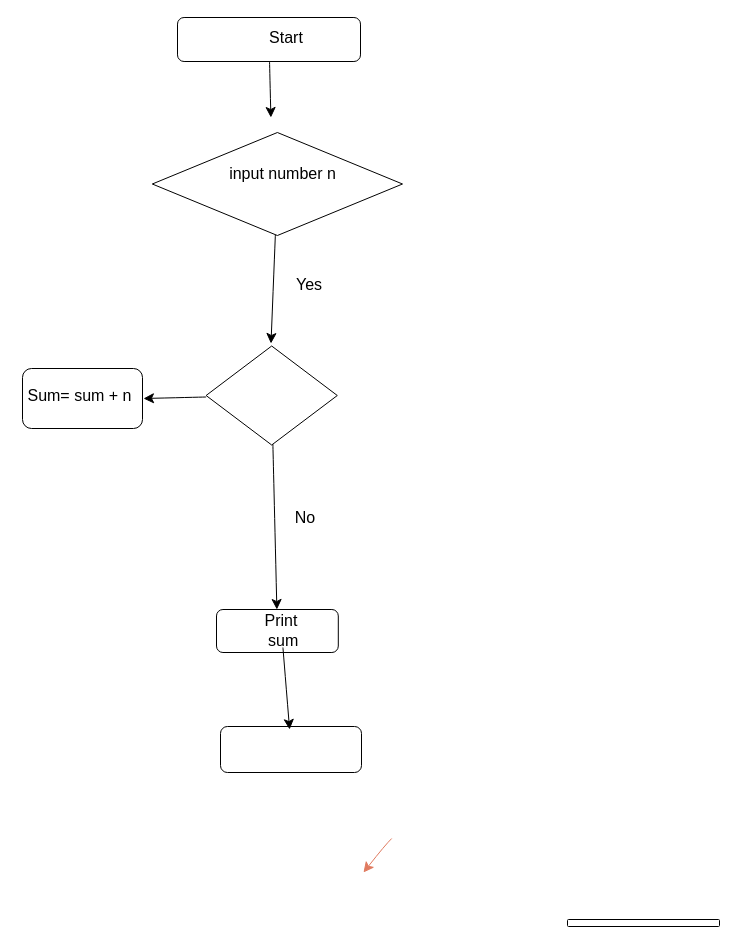
Some shapes in this 737 by 944 pixel diagram are drawn without their labels. The shapes that lost their labels are listed below. From the top down, each one's box as (x1, y1, x2, y2) in pixels, then its label:
(205, 345, 337, 445): If n=0
(220, 726, 362, 772): End
